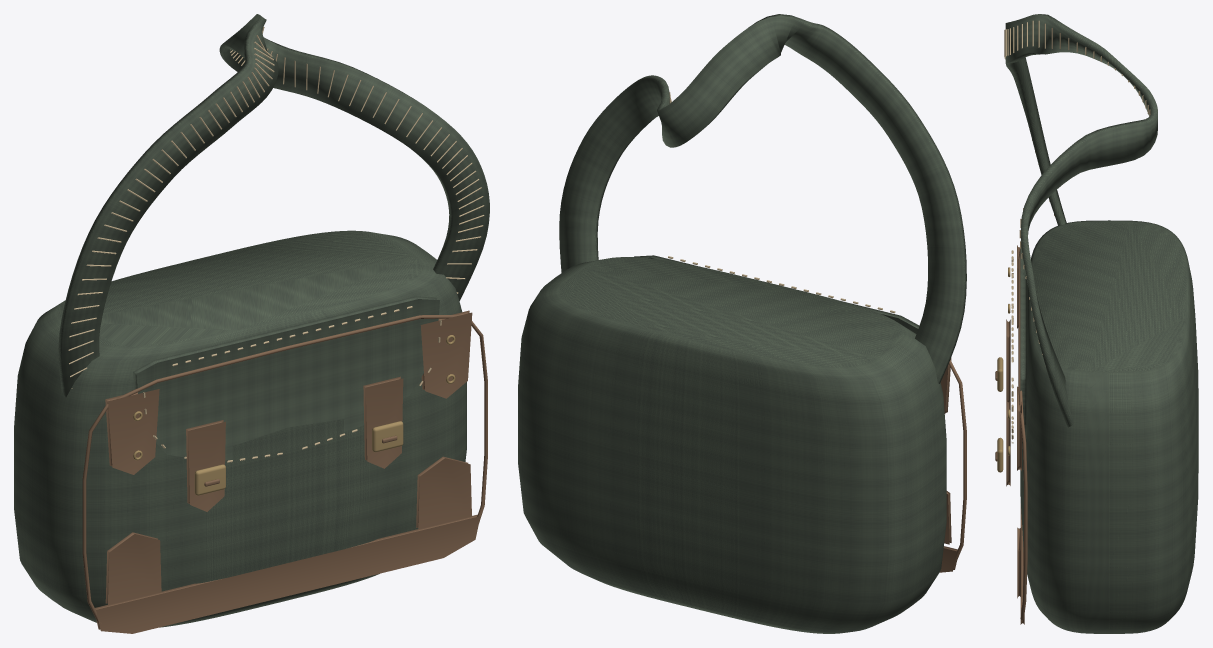
The model's file is bag-v1.glb.
3 renders of one model, left to right at view 1: azimuth 30°, elevation 25°; view 2: azimuth 150°, elevation 25°; view 3: azimuth 270°, elevation 25°, orthographic. The views are drawn at different scales.
Parts seen in each view (by area): view 1: BagBody, BagStrap, Bag_Flap, Bag_FrontHem, Bag_LeatherTab_Left, Bag_LeatherTab_Right, Bag_FrontGussetSeam, Bag_RepairPatch_Left, Bag_RepairPatch_Right, Bag_ClosureTab_Left, Bag_ClosureTab_Right, Bag_ClosureKeeper_Left (+1 smaller); view 2: BagBody, BagStrap, Bag_FrontGussetSeam; view 3: BagBody, BagStrap, Bag_FrontGussetSeam, Bag_Flap, Bag_ClosureTab_Left, Bag_ClosureTab_Right, Bag_Flap_Stitches, Bag_RepairPatch_Right, Bag_LeatherTab_Right, Bag_FrontHem.
Boxes of the visible parts, x1,y1,x2,y2 form: BagBody: (14, 230, 466, 627); BagStrap: (58, 14, 489, 397); Bag_Flap: (133, 296, 439, 460); Bag_FrontHem: (95, 514, 480, 633); Bag_LeatherTab_Left: (105, 389, 159, 474); Bag_LeatherTab_Right: (420, 310, 472, 398); Bag_FrontGussetSeam: (82, 314, 487, 623); Bag_RepairPatch_Left: (105, 532, 161, 605); Bag_RepairPatch_Right: (416, 456, 471, 529); Bag_ClosureTab_Left: (186, 420, 225, 511); Bag_ClosureTab_Right: (363, 376, 403, 468); Bag_ClosureKeeper_Left: (194, 464, 225, 495); BagBody: (518, 257, 946, 633); BagStrap: (559, 14, 966, 383); Bag_FrontGussetSeam: (948, 360, 966, 564); BagBody: (1020, 220, 1198, 633); BagStrap: (1004, 14, 1157, 427); Bag_FrontGussetSeam: (1018, 250, 1027, 619); Bag_Flap: (1020, 249, 1026, 443); Bag_ClosureTab_Left: (1006, 319, 1010, 402); Bag_ClosureTab_Right: (1006, 400, 1010, 486); Bag_Flap_Stitches: (1011, 250, 1013, 443); Bag_RepairPatch_Right: (1017, 527, 1021, 598); Bag_LeatherTab_Right: (1017, 387, 1021, 471); Bag_FrontHem: (1020, 503, 1024, 624).
Bounding box in the file's own units: 0.3061 × 0.4026 × 0.1364.
Materials: 4 (1 with a texture image).
